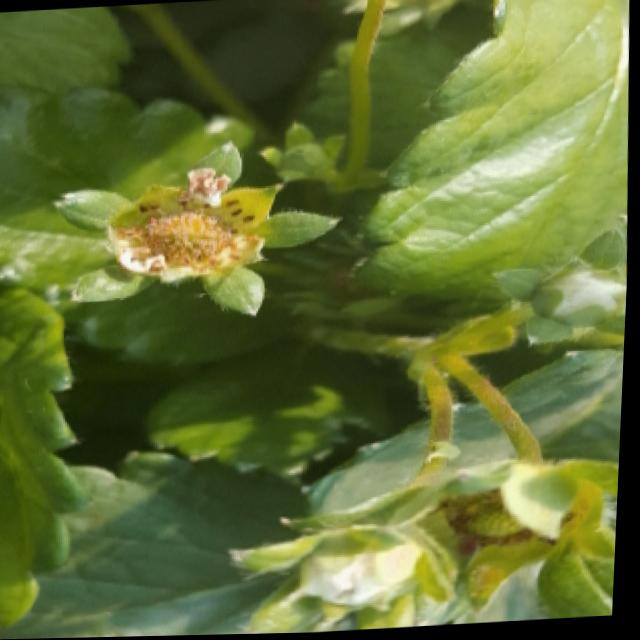Blossom Blight: (114, 163, 264, 284)
